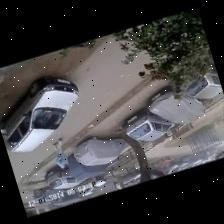person: (53, 138, 69, 170)
